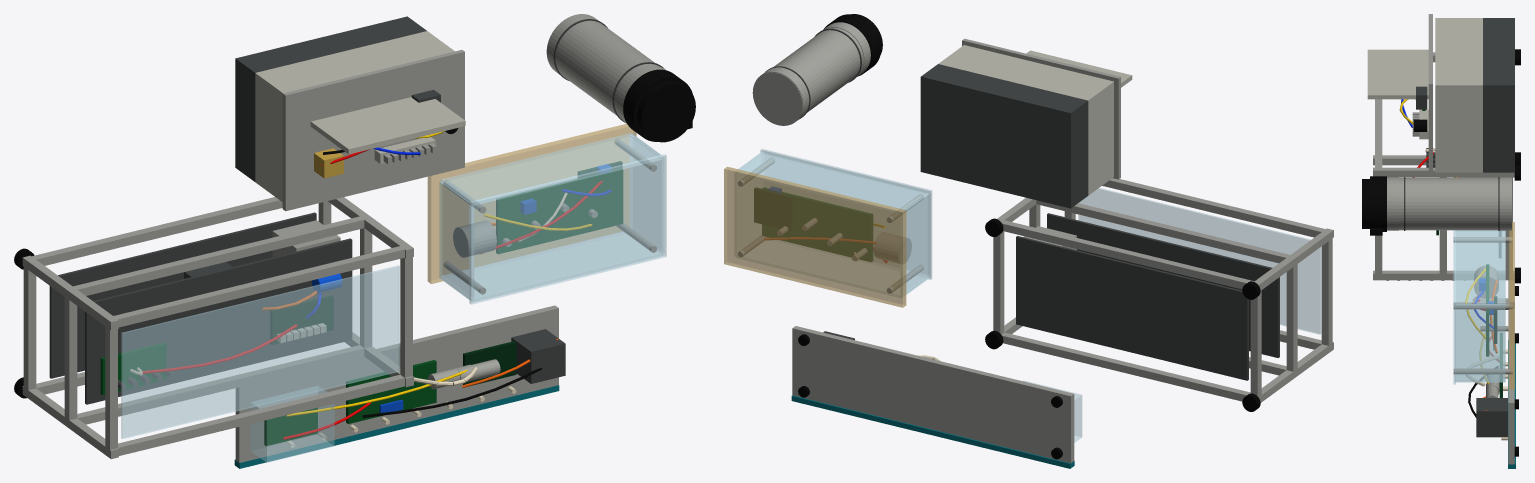
File: 00_all_table_props_combined.fbx
The picture shows the model from 3 angles, left to right: view 1: azimuth 30°, elevation 25°; view 2: azimuth 150°, elevation 25°; view 3: azimuth 270°, elevation 25°; orthographic projection. The views are drawn at different scales.
Visible parts, largest first — view 1: combined_rack_top_clear_plate, combined_acrylic_top_lid, combined_rack_perforated_shelf_1, combined_controlbox_top_lid, combined_tray_long_metal_platform, combined_acrylic_warm_base, combined_controlbox_upper_light_body, combined_acrylic_back_panel, combined_rack_perforated_shelf_0, combined_acrylic_front_panel, combined_acrylic_main_green_pcb, combined_controlbox_lower_dark_body (+31 smaller); view 2: combined_rack_perforated_shelf_0, combined_tray_long_metal_platform, combined_controlbox_lower_dark_body, combined_acrylic_warm_base, combined_rack_top_clear_plate, combined_acrylic_top_lid, combined_controlbox_upper_light_body, combined_thermos_main_body, combined_rack_perforated_shelf_1, combined_acrylic_back_panel, combined_acrylic_front_panel, combined_acrylic_main_green_pcb (+17 smaller); view 3: combined_controlbox_upper_light_body, combined_thermos_main_body, combined_controlbox_lower_dark_body, combined_acrylic_right_panel, combined_acrylic_back_panel, combined_controlbox_back_vertical_plate, combined_acrylic_front_panel, combined_acrylic_left_panel, combined_tray_right_metal_block, combined_tray_long_metal_platform, combined_rack_vertical_post_1_0, combined_rack_vertical_post_1_1 (+21 smaller).
Part boxes in pixels (x1,y1,x2,y2): combined_rack_top_clear_plate: (121, 265, 399, 438); combined_acrylic_top_lid: (469, 154, 666, 304); combined_rack_perforated_shelf_1: (85, 238, 352, 404); combined_controlbox_top_lid: (282, 50, 464, 211); combined_tray_long_metal_platform: (235, 305, 558, 462); combined_acrylic_warm_base: (427, 124, 636, 283); combined_controlbox_upper_light_body: (255, 31, 454, 201); combined_acrylic_back_panel: (440, 133, 662, 205); combined_rack_perforated_shelf_0: (49, 212, 316, 378); combined_acrylic_front_panel: (441, 232, 662, 301); combined_acrylic_main_green_pcb: (496, 169, 623, 254); combined_controlbox_lower_dark_body: (235, 16, 426, 181); combined_rack_perforated_shelf_0: (1016, 236, 1248, 380); combined_tray_long_metal_platform: (792, 326, 1074, 463); combined_controlbox_lower_dark_body: (920, 64, 1088, 208); combined_acrylic_warm_base: (724, 166, 906, 307); combined_rack_top_clear_plate: (1078, 188, 1321, 334); combined_acrylic_top_lid: (760, 149, 932, 279); combined_controlbox_upper_light_body: (938, 45, 1113, 195); combined_thermos_main_body: (753, 27, 863, 125); combined_rack_perforated_shelf_1: (1047, 213, 1279, 357); combined_acrylic_back_panel: (737, 151, 928, 212); combined_acrylic_front_panel: (736, 241, 928, 297); combined_acrylic_main_green_pcb: (762, 187, 872, 261); combined_controlbox_upper_light_body: (1435, 18, 1482, 172); combined_thermos_main_body: (1399, 178, 1511, 230); combined_controlbox_lower_dark_body: (1483, 18, 1514, 172); combined_acrylic_right_panel: (1455, 304, 1505, 381); combined_acrylic_back_panel: (1455, 230, 1505, 305); combined_controlbox_back_vertical_plate: (1367, 49, 1428, 99); combined_acrylic_front_panel: (1455, 309, 1505, 382); combined_acrylic_left_panel: (1456, 230, 1505, 301); combined_tray_right_metal_block: (1476, 398, 1507, 437); combined_tray_long_metal_platform: (1508, 280, 1514, 464); combined_rack_vertical_post_1_0: (1373, 270, 1514, 280); combined_rack_vertical_post_1_1: (1373, 167, 1514, 177).
Size of the model in its own units: 5 by 3.19 by 1.4.
